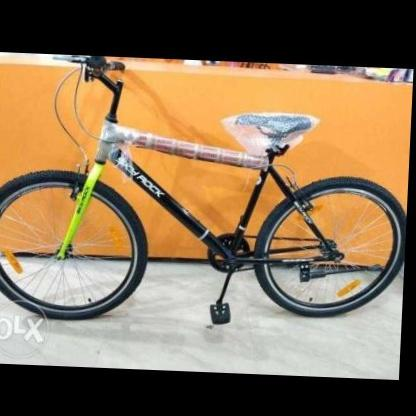Bicycle: (0, 67, 405, 339)
